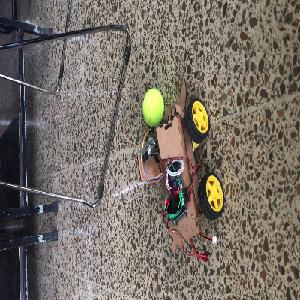Ball: (142, 88, 164, 127)
Robot: (136, 80, 224, 251)
